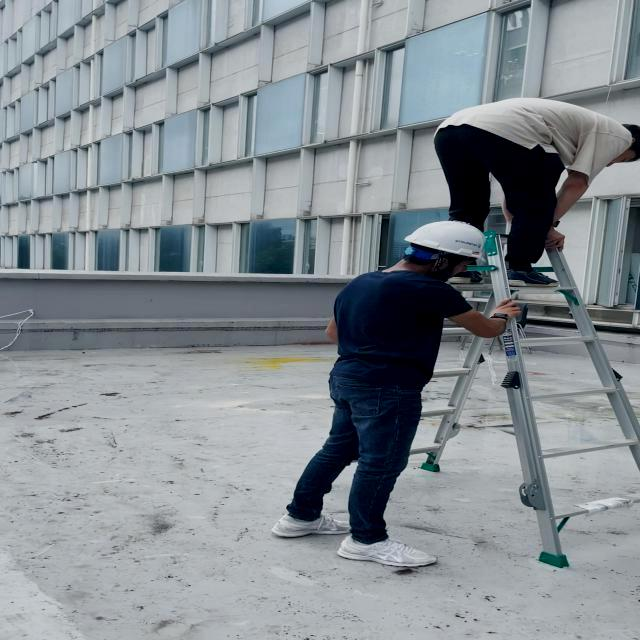hand_noglove: (491, 294, 524, 324), (542, 223, 568, 251)
head_helmet: (402, 218, 487, 260)
person: (263, 211, 493, 570), (417, 101, 633, 296)
shoes: (331, 529, 442, 574), (266, 502, 367, 546), (505, 262, 562, 292)
